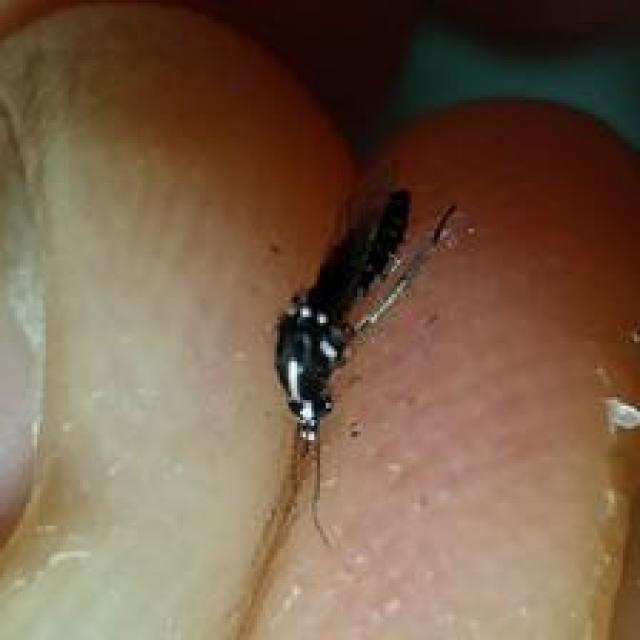Aedes albopictus: (207, 157, 464, 640)
